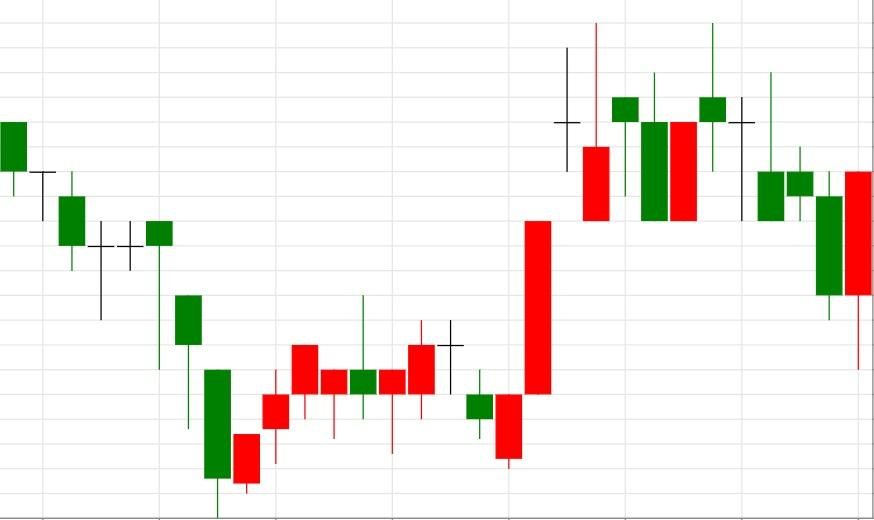bullish_engulfing_rise: (699, 24, 874, 370)
hanging_man_fall: (495, 24, 640, 470)
three_white_soldiers_rise: (145, 220, 320, 518)
